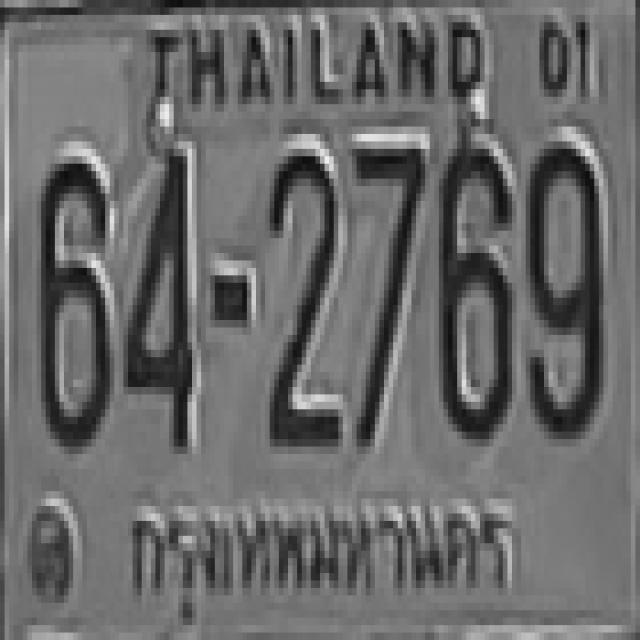2: (267, 145, 336, 443)
4: (119, 142, 192, 446)
6: (434, 138, 508, 435), (37, 152, 105, 442)
7: (350, 138, 423, 442), (350, 142, 423, 380)
9: (521, 134, 599, 432)
Bangkok: (112, 486, 526, 613)
